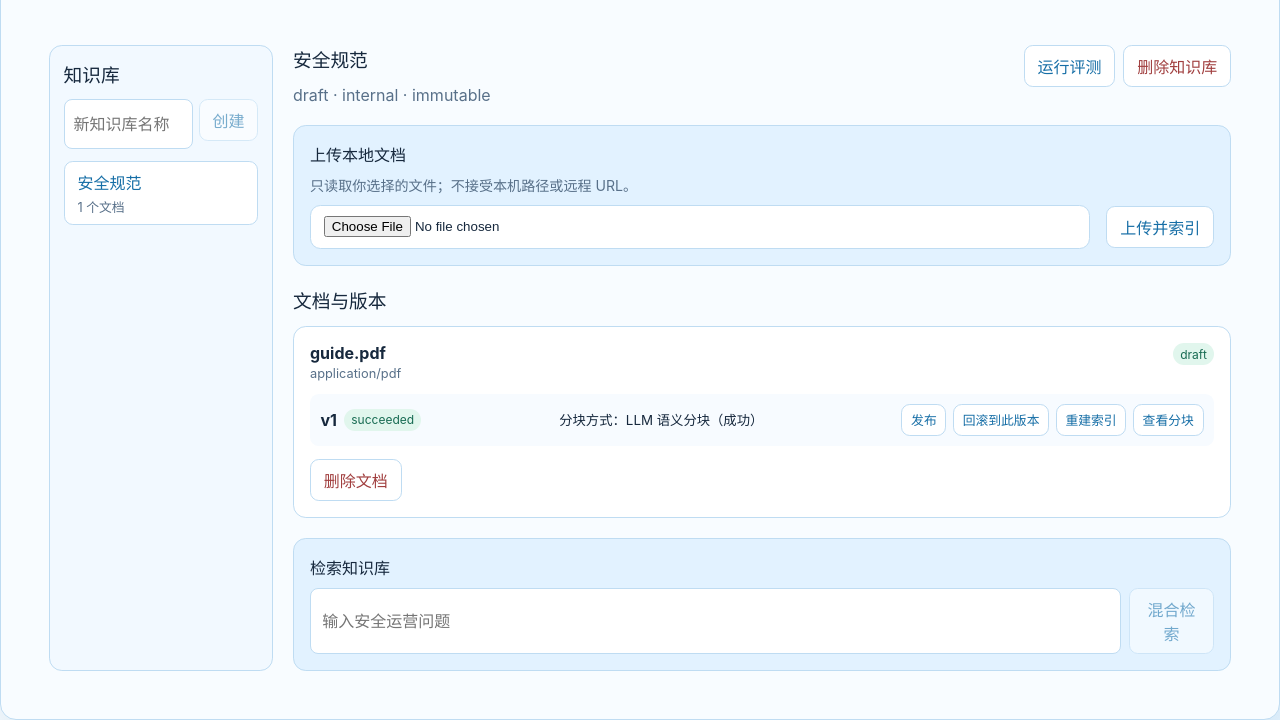
Test: KnowledgePage › shows document lifecycle and truthful structured refusal/degradation
(page scrolled)
Expected: the text "guide.pdf" is shown, top-left (310, 343), bottom-right (386, 363)
Expected: the text "分块方式：LLM 语义分块（成功）" is shown, top-left (559, 410), bottom-right (763, 429)
Type "恶意宏" into the field labelled "检索知识库". click: (716, 621)
box: top-left (310, 588), bottom-right (1121, 654)
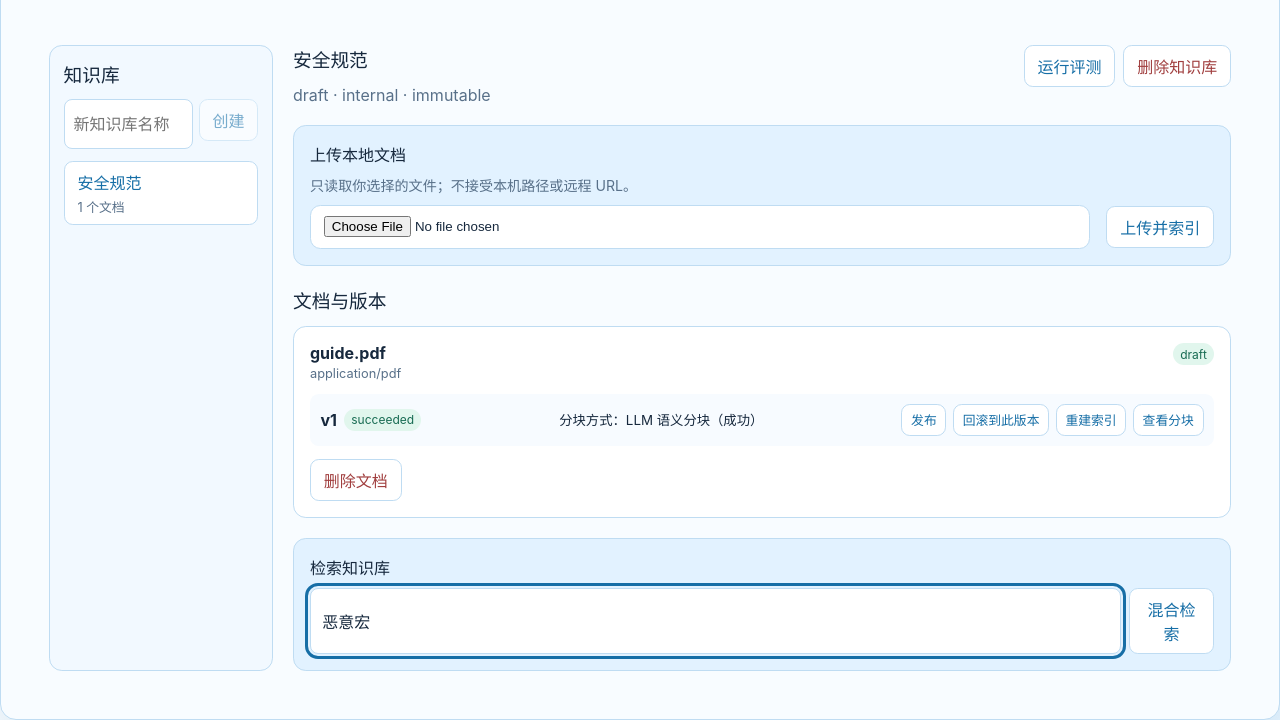
Click the button "混合检索". click: (1172, 621)
box: top-left (1129, 588), bottom-right (1214, 654)
(page scrolled)
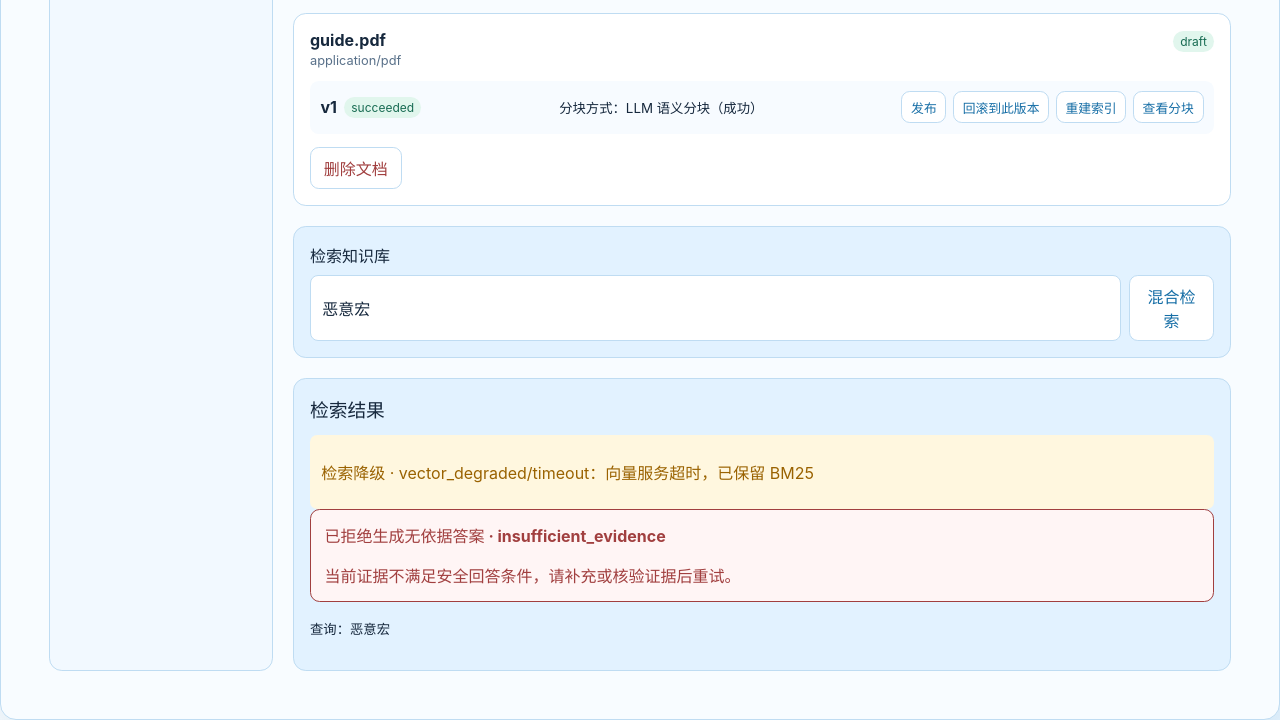
Expected: the message "已拒绝生成无依据答案 · insufficient_evidence 当前证据不满足安全回答条件，请补充或核验证据后重试。" is shown, top-left (310, 509), bottom-right (1214, 602)
Expected: the text "检索降级 · vector_degraded/timeout：向量服务超时，已保留 BM25" is shown, top-left (321, 463), bottom-right (814, 483)
